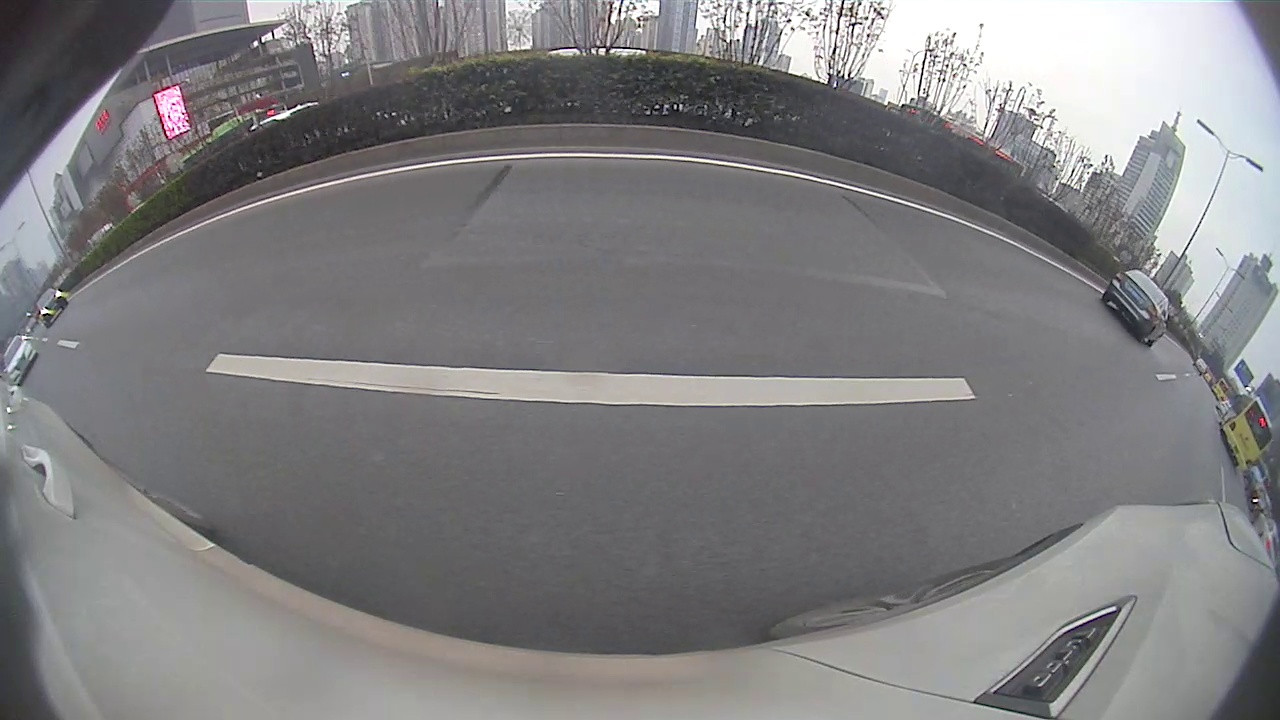bus: (1221, 392, 1274, 474)
car: (1104, 267, 1169, 348)
